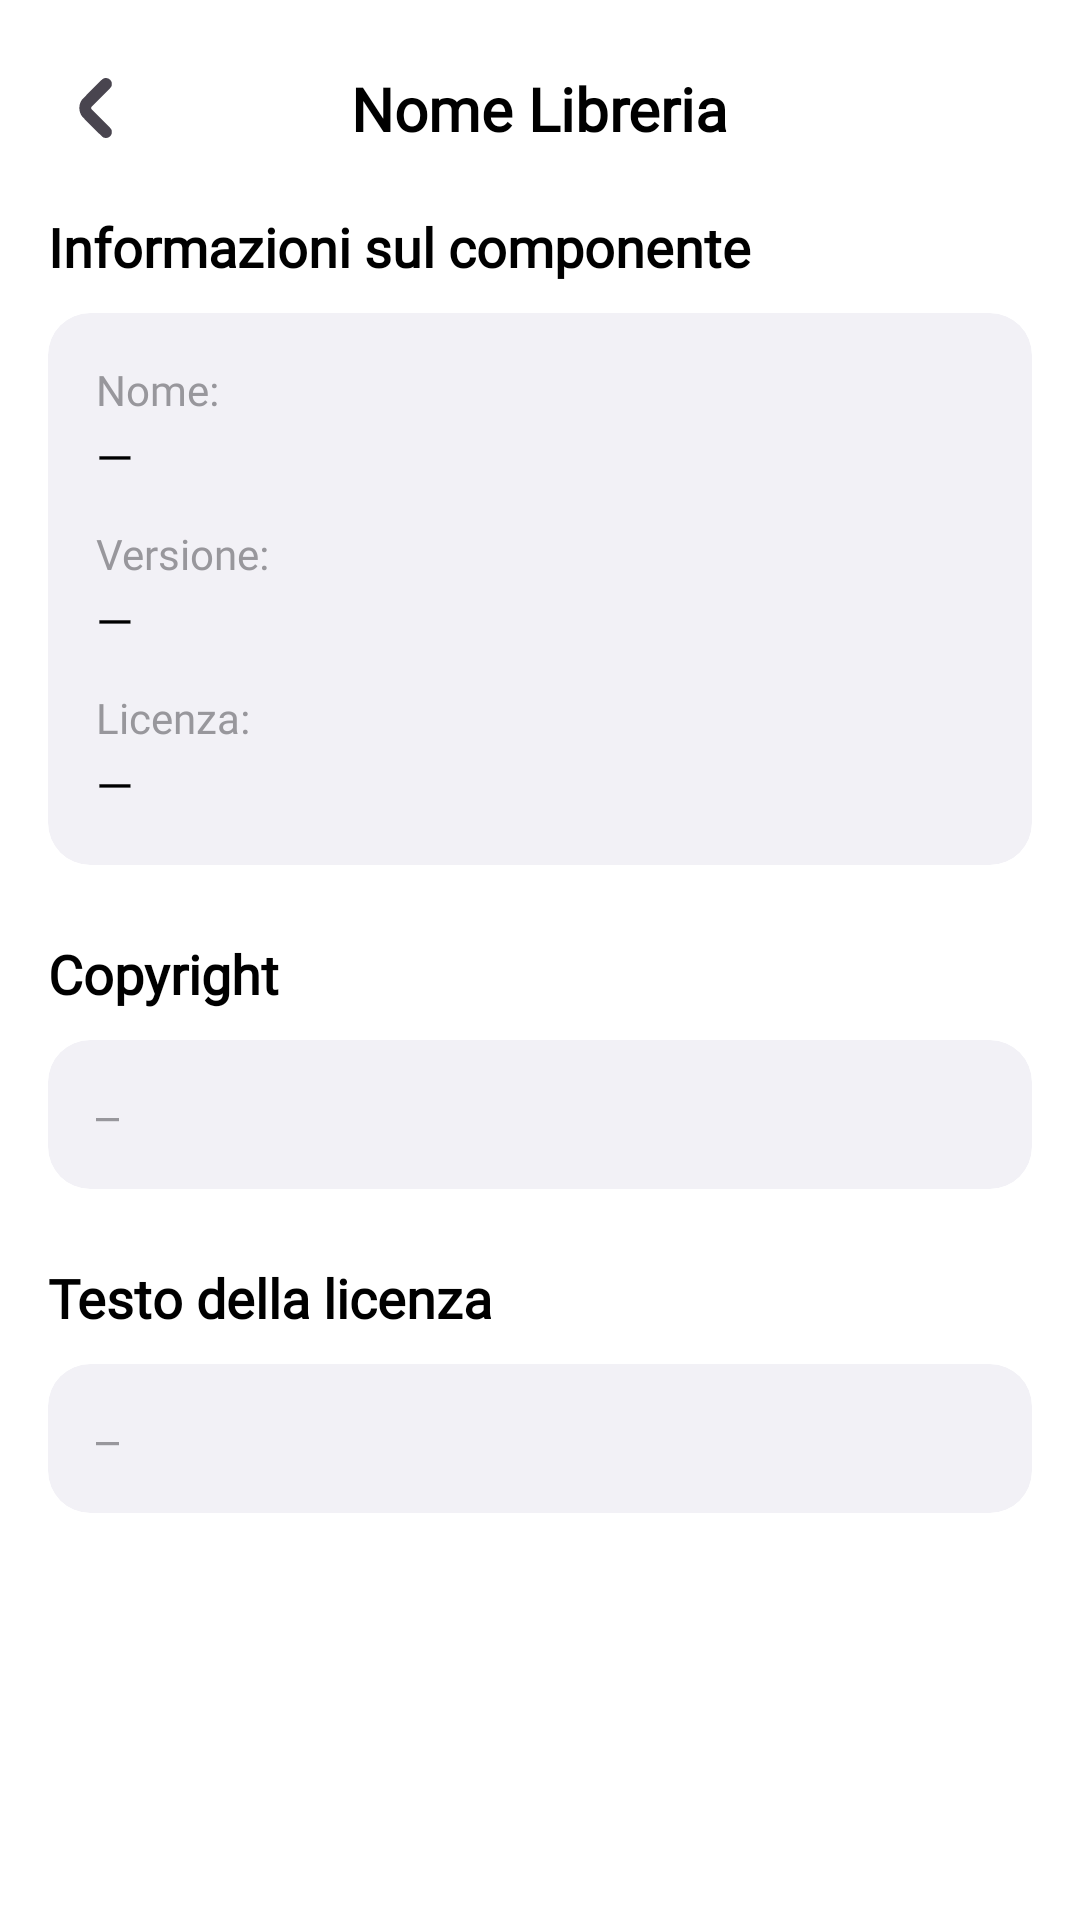

Screen size 1080w x 1920h. Icon name, then its center in pixels as (x=x, y=y):
back: (x=95, y=108)
